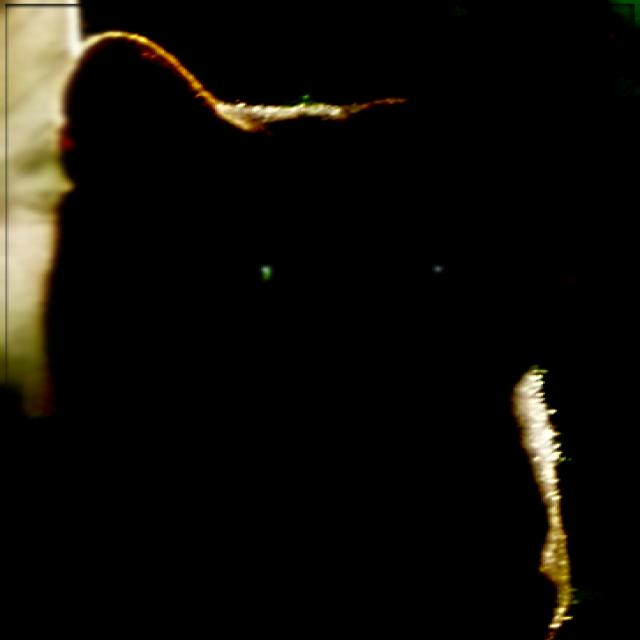Cat: (0, 13, 632, 638)
